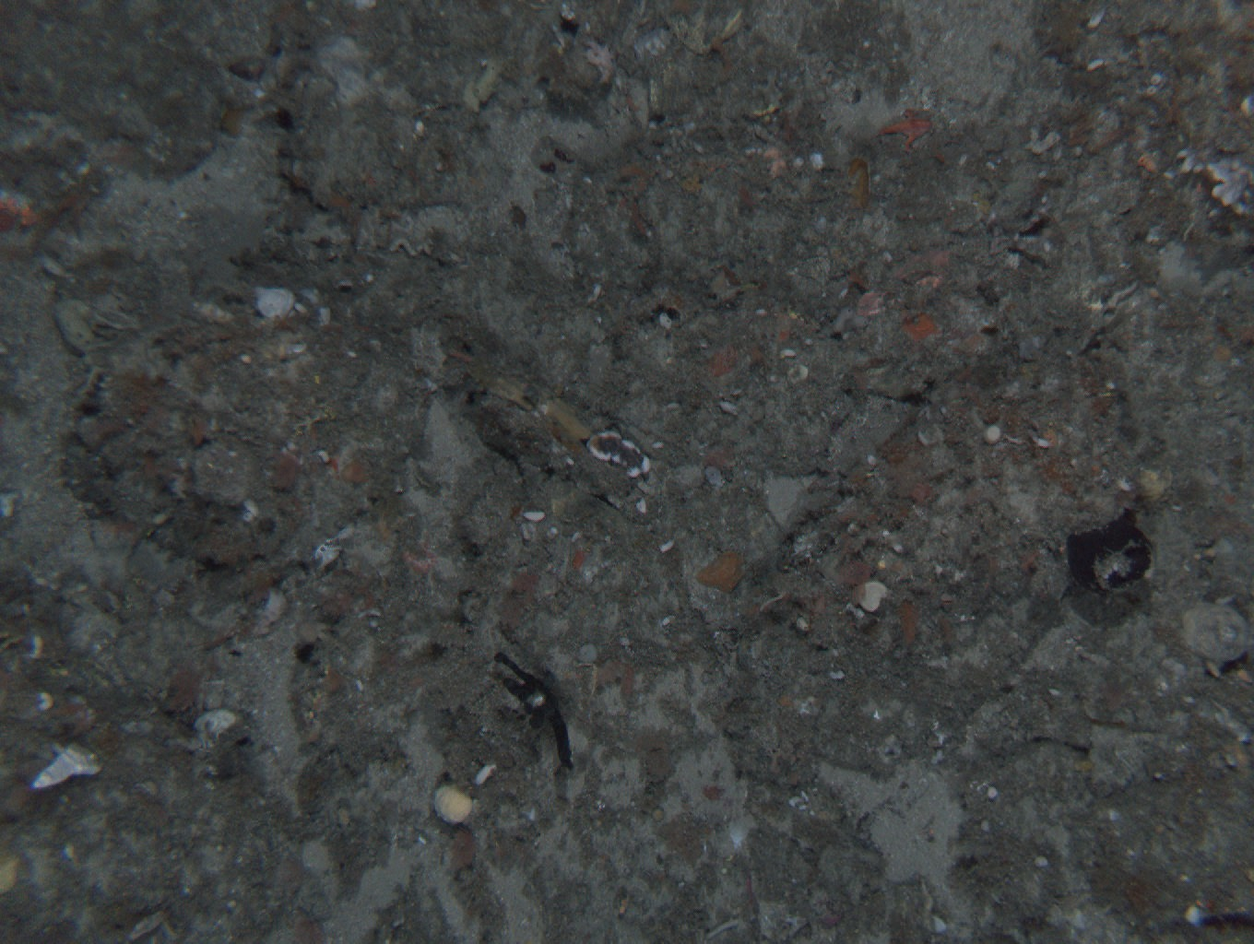Brachionichthyidae: (875, 106, 934, 153)
